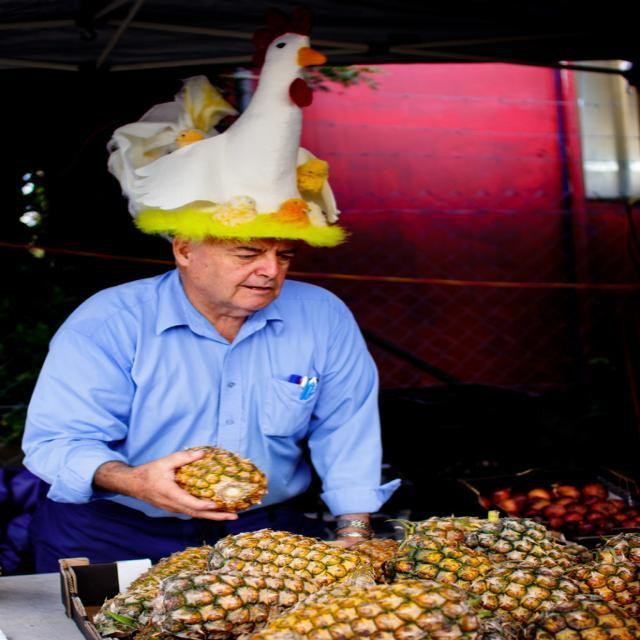Pineapple: (93, 514, 639, 640), (173, 444, 269, 512)
